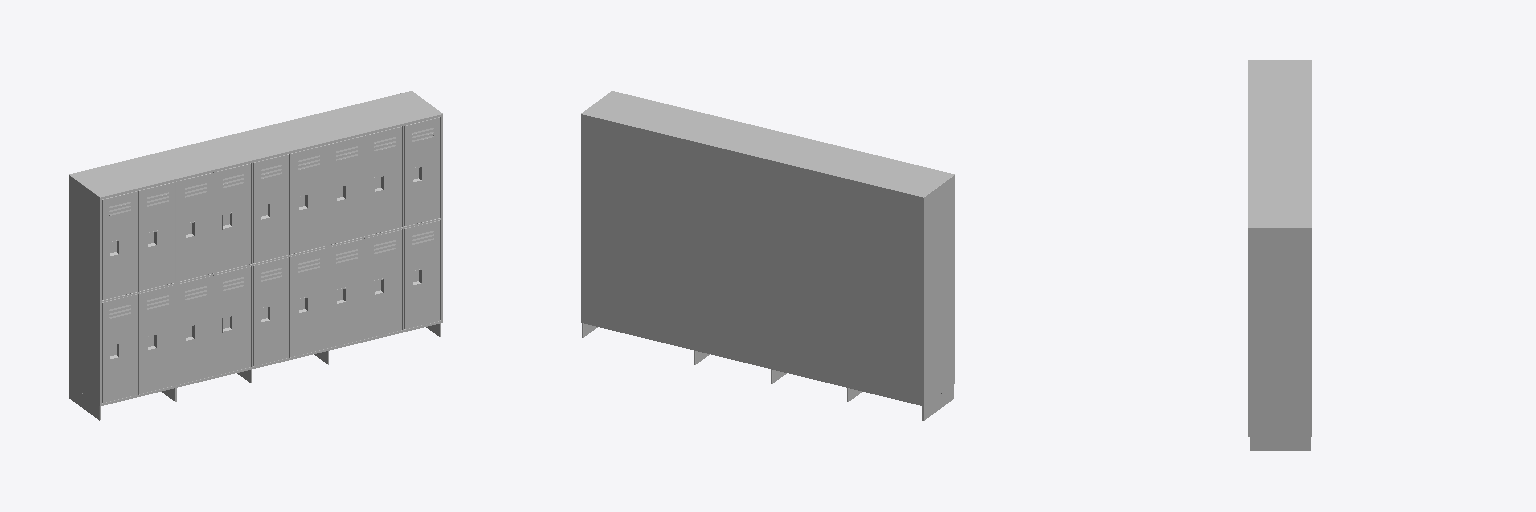
Rendered from Locker.obj.
3 renders of one model, left to right at view 1: azimuth 30°, elevation 25°; view 2: azimuth 150°, elevation 25°; view 3: azimuth 270°, elevation 25°, orthographic.
Visible parts, largest first — view 1: Lockers; view 2: Lockers; view 3: Lockers.
Boxes of the visible parts, <box> form: Lockers: <box>69,91,442,420</box>; Lockers: <box>581,91,954,420</box>; Lockers: <box>1248,60,1311,450</box>.
Size of the model in its own units: 48.17 by 29.98 by 7.68.